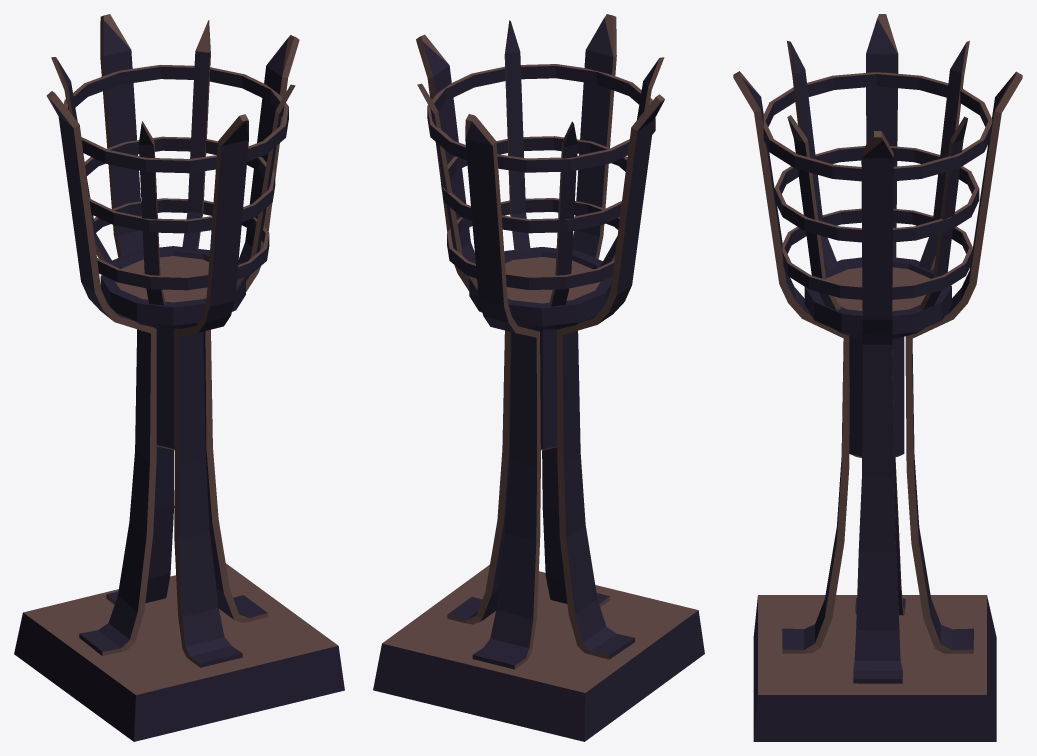
Rendered from MCastle_Fixtures_06.FBX.
3 renders of one model, left to right at view 1: azimuth 30°, elevation 25°; view 2: azimuth 150°, elevation 25°; view 3: azimuth 270°, elevation 25°, orthographic.
Visible parts, largest first — view 1: MCastle_Fixtures_Torch_Standing_LOD0; view 2: MCastle_Fixtures_Torch_Standing_LOD0; view 3: MCastle_Fixtures_Torch_Standing_LOD0.
Part boxes in pixels (x1,y1,x2,y2): MCastle_Fixtures_Torch_Standing_LOD0: (14, 14, 344, 741); MCastle_Fixtures_Torch_Standing_LOD0: (373, 14, 704, 741); MCastle_Fixtures_Torch_Standing_LOD0: (733, 14, 1022, 741).
Size of what is drawn, in the model's own units: 0.7617 by 1.79 by 0.7616.
